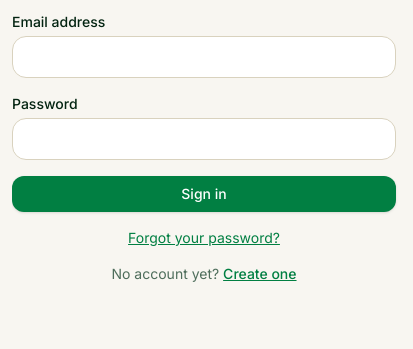
it: EmailPasswordForm › registering › can switch back to signing in
Click the button "Create one". click: (260, 274)
box: [223,264,296,284]
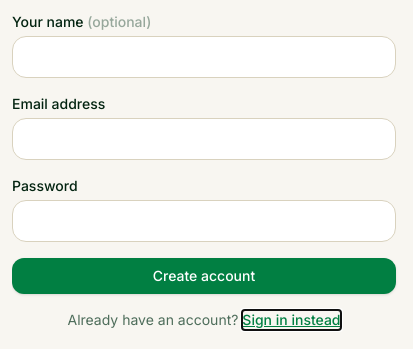
Click the button "Sign in instead". click: (291, 320)
box: [242,310,340,330]
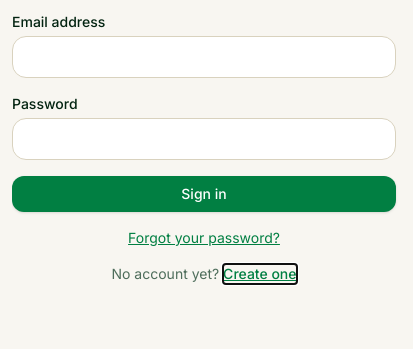
Expected: the button "Sign in" is shown, [12,176,396,212]
Expected: the label labelled "Your name" is gone
